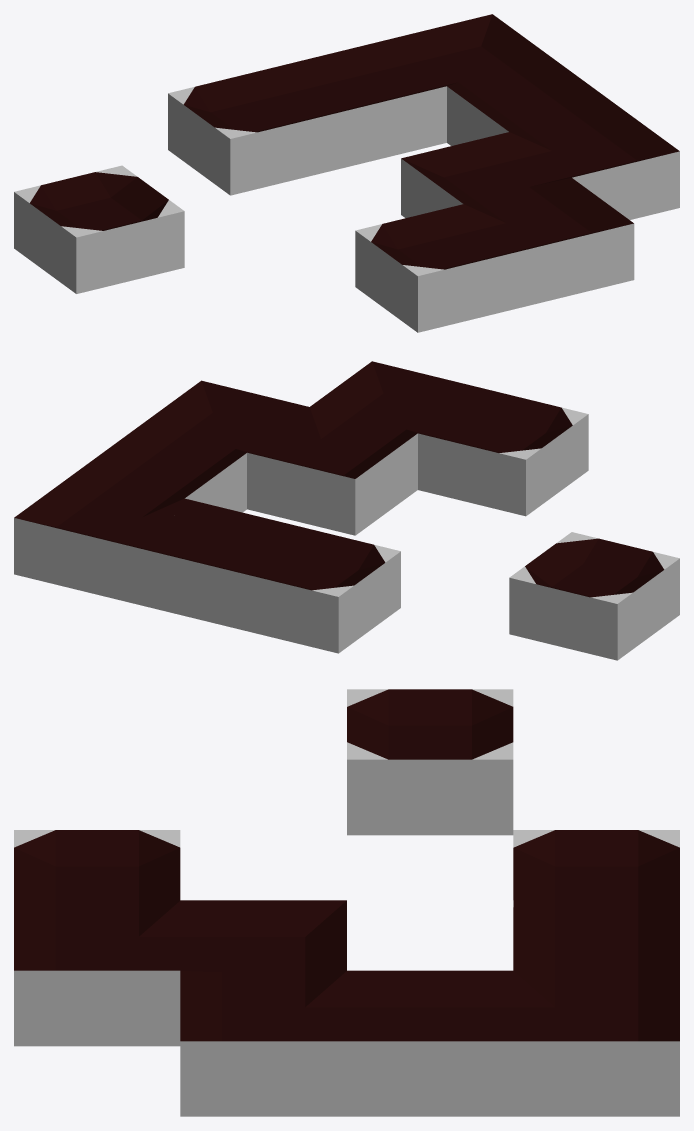
File: 55f_path.obj
3 renders of one model, top to bottom at view 1: azimuth 30°, elevation 25°; view 2: azimuth 150°, elevation 25°; view 3: azimuth 270°, elevation 25°, orthographic. The views are drawn at different scales.
Visible parts, largest first — view 1: foil.hole.0.3_Cube.111, foil.ending.2.4_ending.220, foil.ending.2.1_ending.219, foil.through.3.4_through.105, foil.corner.3.1_corner.553, foil.corner.4.2_corner.555, foil.corner.3.2_corner.554, foil.through.4.3_through.106, foil.corner.4.4_corner.556; view 2: foil.hole.0.3_Cube.111, foil.ending.2.4_ending.220, foil.ending.2.1_ending.219, foil.corner.3.2_corner.554, foil.through.3.4_through.105, foil.corner.4.4_corner.556, foil.through.4.3_through.106, foil.corner.3.1_corner.553, foil.corner.4.2_corner.555; view 3: foil.hole.0.3_Cube.111, foil.through.4.3_through.106, foil.corner.3.1_corner.553, foil.corner.4.2_corner.555, foil.corner.4.4_corner.556, foil.corner.3.2_corner.554, foil.ending.2.4_ending.220, foil.ending.2.1_ending.219, foil.through.3.4_through.105.
Boxes of the visible parts, x1,y1,x2,y2 form: foil.hole.0.3_Cube.111: [14, 165, 184, 293]; foil.ending.2.4_ending.220: [168, 67, 338, 195]; foil.ending.2.1_ending.219: [355, 204, 525, 332]; foil.through.3.4_through.105: [276, 40, 446, 168]; foil.corner.3.1_corner.553: [464, 178, 634, 306]; foil.corner.4.2_corner.555: [509, 105, 679, 219]; foil.corner.3.2_corner.554: [401, 132, 571, 218]; foil.through.4.3_through.106: [447, 60, 617, 145]; foil.corner.4.4_corner.556: [384, 14, 554, 93]; foil.hole.0.3_Cube.111: [509, 532, 679, 660]; foil.ending.2.4_ending.220: [230, 525, 400, 653]; foil.ending.2.1_ending.219: [418, 387, 588, 516]; foil.corner.3.2_corner.554: [247, 407, 417, 535]; foil.through.3.4_through.105: [122, 498, 292, 626]; foil.corner.4.4_corner.556: [14, 472, 183, 600]; foil.through.4.3_through.106: [77, 426, 246, 512]; foil.corner.3.1_corner.553: [310, 361, 479, 440]; foil.corner.4.2_corner.555: [139, 380, 309, 460]; foil.hole.0.3_Cube.111: [347, 689, 513, 835]; foil.through.4.3_through.106: [347, 970, 513, 1116]; foil.corner.3.1_corner.553: [14, 900, 180, 1046]; foil.corner.4.2_corner.555: [180, 971, 346, 1116]; foil.corner.4.4_corner.556: [513, 971, 679, 1116]; foil.corner.3.2_corner.554: [180, 900, 346, 989]; foil.ending.2.4_ending.220: [513, 830, 679, 919]; foil.ending.2.1_ending.219: [14, 830, 180, 919]; foil.through.3.4_through.105: [513, 900, 679, 989].
Size of the model in its own units: 10 by 1 by 8.
